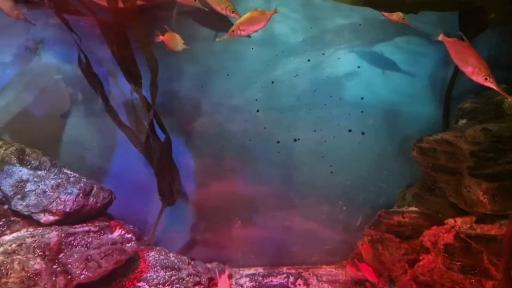Fish: (436, 33, 511, 100), (217, 8, 278, 41), (351, 50, 414, 76), (179, 10, 234, 37), (155, 26, 189, 52), (0, 0, 35, 25), (206, 0, 241, 18), (356, 260, 378, 284), (381, 12, 410, 25), (175, 0, 208, 10), (216, 266, 231, 287), (93, 0, 112, 6)
